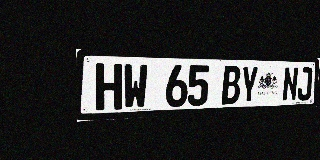5: (188, 65, 209, 106)
6: (166, 65, 188, 107)
B: (221, 66, 241, 105)
H: (96, 63, 122, 111)
J: (297, 67, 313, 101)
N: (282, 67, 299, 102)
W: (123, 64, 148, 109)
Y: (240, 66, 259, 104)
